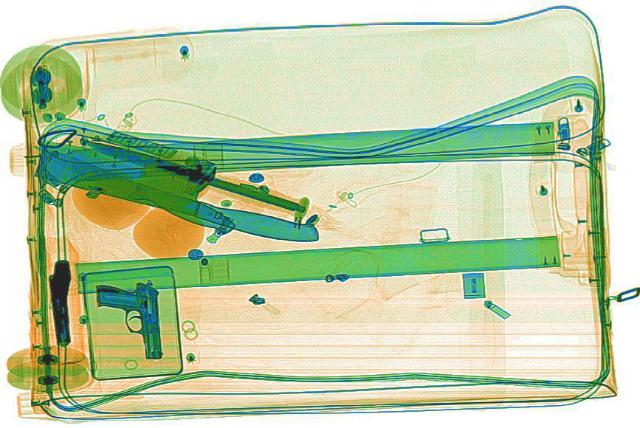Gun: (93, 276, 163, 359), (46, 257, 72, 346)
Knife: (14, 129, 340, 251), (21, 132, 242, 238), (74, 132, 300, 210)
